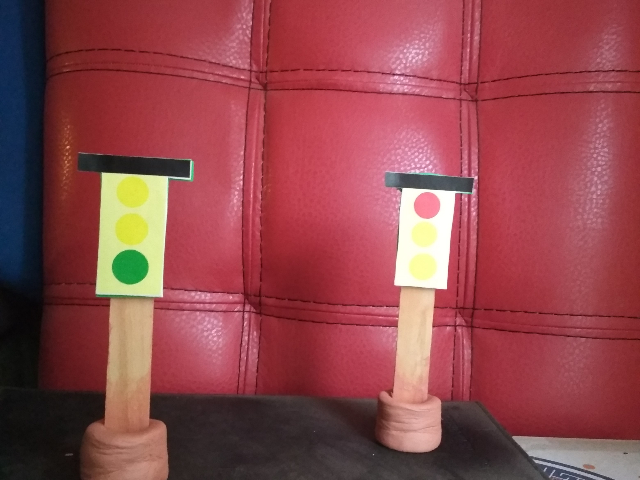Green: (74, 146, 201, 307)
Red: (376, 164, 484, 299)
